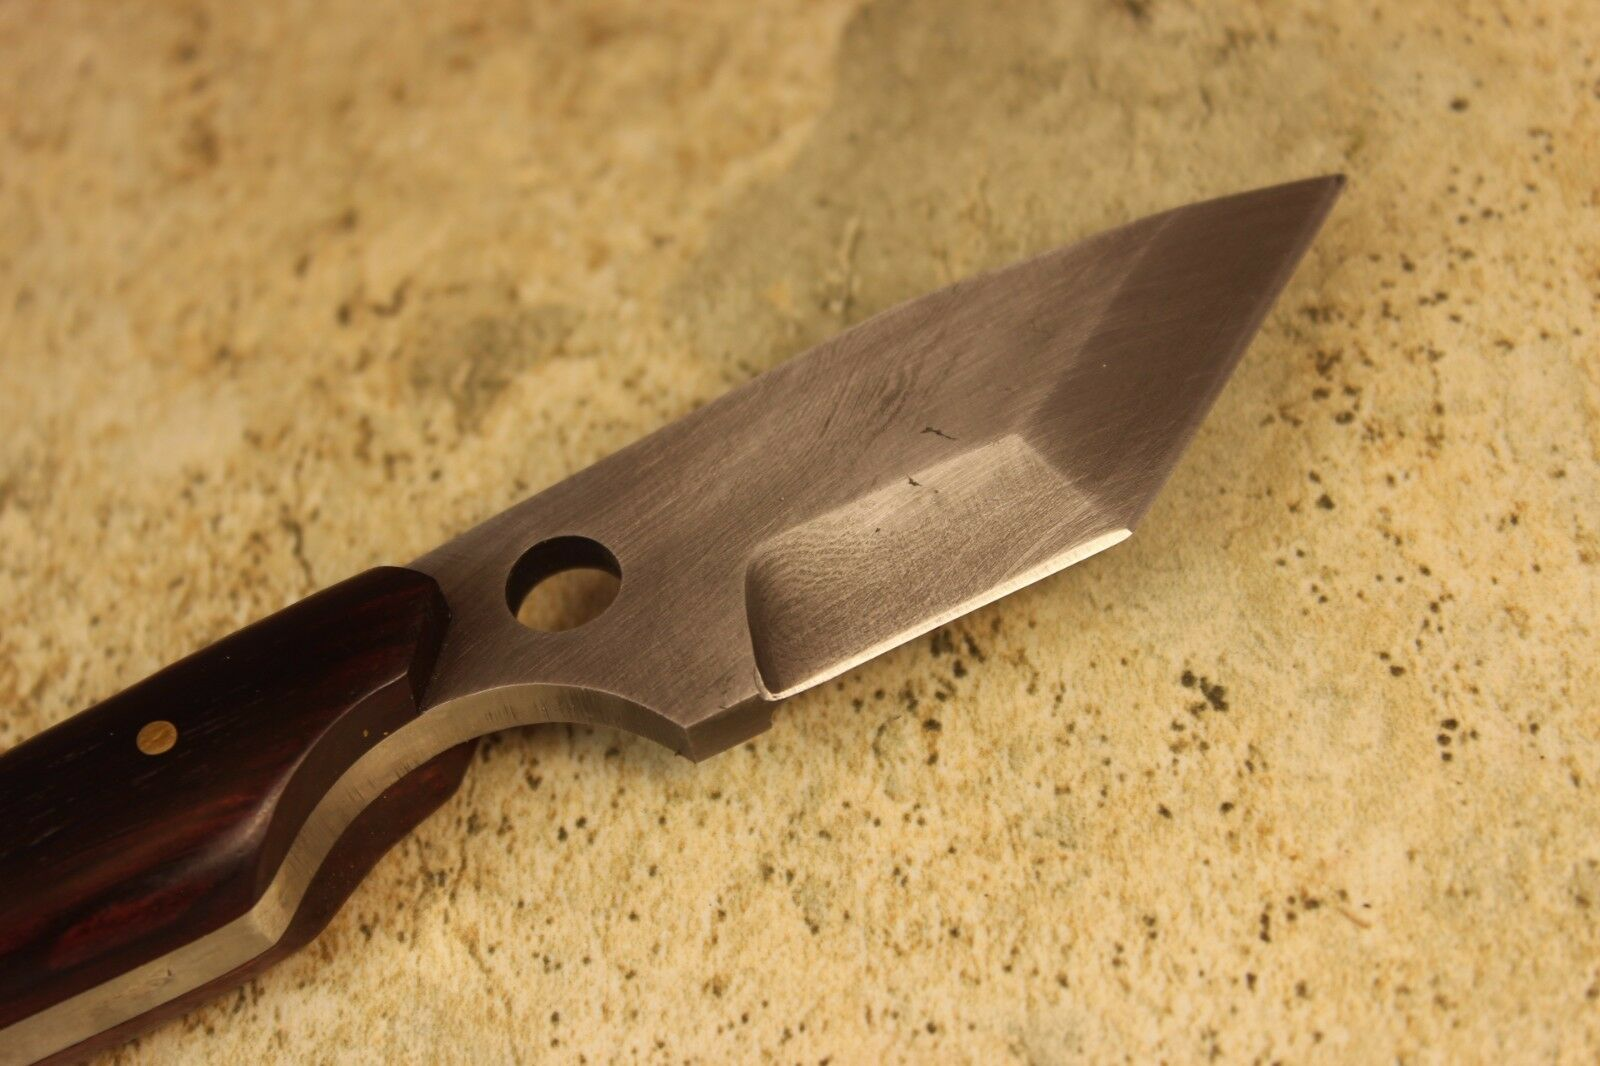knief: (18, 167, 1353, 1066)
